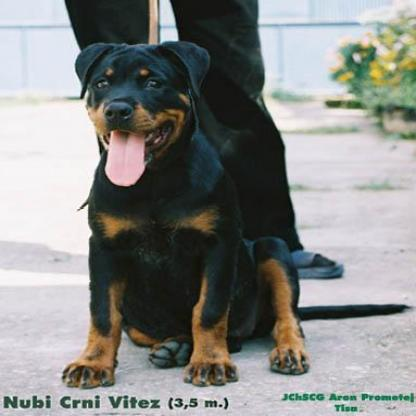Rottweiler: (60, 38, 310, 390)
